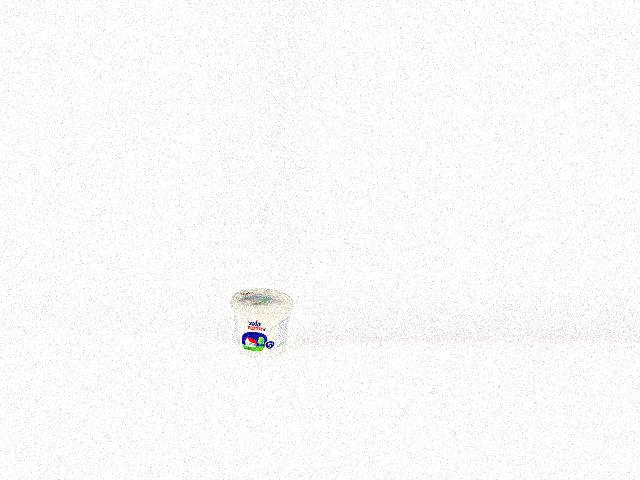cotage: (227, 288, 293, 360)
